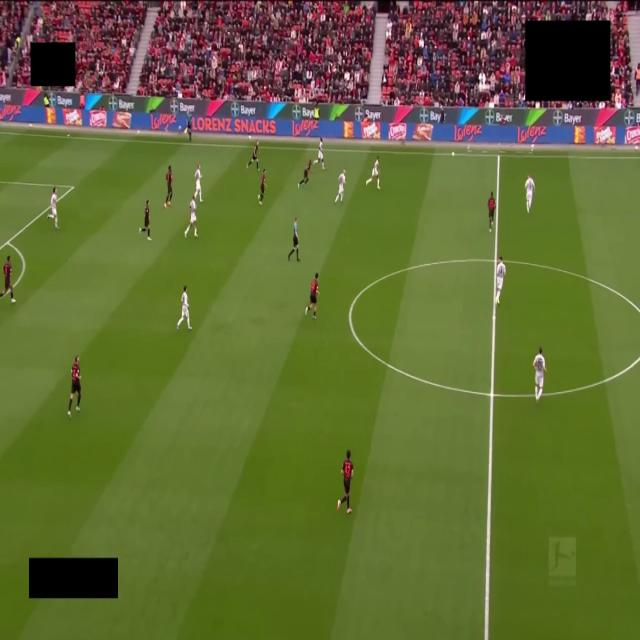ball: (452, 152, 454, 156)
player: (337, 450, 353, 513), (68, 356, 81, 417), (533, 347, 546, 402), (0, 256, 15, 303), (177, 286, 191, 330), (305, 272, 318, 319), (185, 195, 197, 238), (47, 187, 58, 229), (366, 157, 380, 189), (140, 200, 151, 240), (496, 256, 505, 304), (298, 160, 311, 187), (164, 166, 172, 208), (525, 176, 534, 213), (335, 170, 345, 203), (314, 137, 324, 169), (247, 141, 258, 169), (194, 165, 202, 202), (488, 192, 495, 232), (258, 169, 265, 205)
referee: (288, 217, 299, 261)
